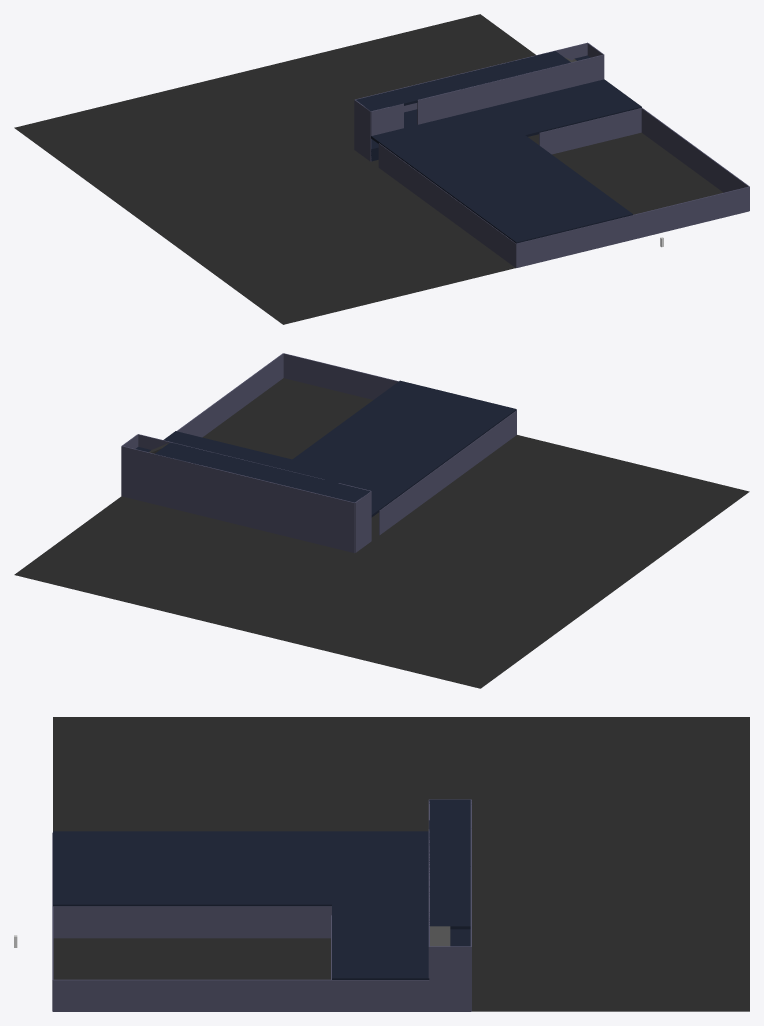
File: ascenion_map.glb
3 renders of one model, top to bottom at view 1: azimuth 30°, elevation 25°; view 2: azimuth 150°, elevation 25°; view 3: azimuth 270°, elevation 25°, orthographic. The views are drawn at different scales.
Visible parts, largest first — view 1: Plane, Cube.008, Cube.020, Cube.015, Cube.009, Cube.002, Cube.014, Cube.003, Cube.019, Cube.017, Cube.016, Cube.005; view 2: Plane, Cube.008, Cube.005, Cube.002, Cube.014, Cube.020, Cube.019, Cube.009, Cube.017; view 3: Plane, Cube.008, Cube.019, Cube, Cube.009, Cube.014, Cube.018.
Part boxes in pixels (bbox=[...]): Plane: bbox=[14, 14, 723, 324]; Cube.008: bbox=[371, 108, 632, 243]; Cube.020: bbox=[516, 186, 749, 267]; Cube.015: bbox=[417, 54, 604, 124]; Cube.009: bbox=[488, 79, 641, 136]; Cube.002: bbox=[378, 143, 516, 267]; Cube.014: bbox=[356, 51, 570, 111]; Cube.003: bbox=[539, 108, 641, 154]; Cube.019: bbox=[641, 108, 749, 210]; Cube.017: bbox=[354, 100, 371, 161]; Cube.016: bbox=[371, 103, 403, 135]; Cube.005: bbox=[355, 42, 587, 112]; Plane: bbox=[14, 378, 749, 688]; Cube.008: bbox=[280, 380, 516, 517]; Cube.005: bbox=[121, 446, 354, 552]; Cube.002: bbox=[379, 410, 516, 535]; Cube.014: bbox=[155, 442, 370, 502]; Cube.020: bbox=[283, 353, 398, 399]; Cube.019: bbox=[176, 353, 283, 437]; Cube.009: bbox=[163, 431, 291, 468]; Cube.017: bbox=[355, 491, 371, 552]; Plane: bbox=[53, 717, 749, 1011]; Cube.008: bbox=[53, 831, 428, 906]; Cube.019: bbox=[53, 979, 471, 1011]; Cube: bbox=[53, 906, 331, 938]; Cube.009: bbox=[332, 904, 470, 979]; Cube.014: bbox=[429, 799, 470, 929]; Cube.018: bbox=[429, 946, 471, 980].
Size of the model in its own units: 200 by 20.5 by 211.
